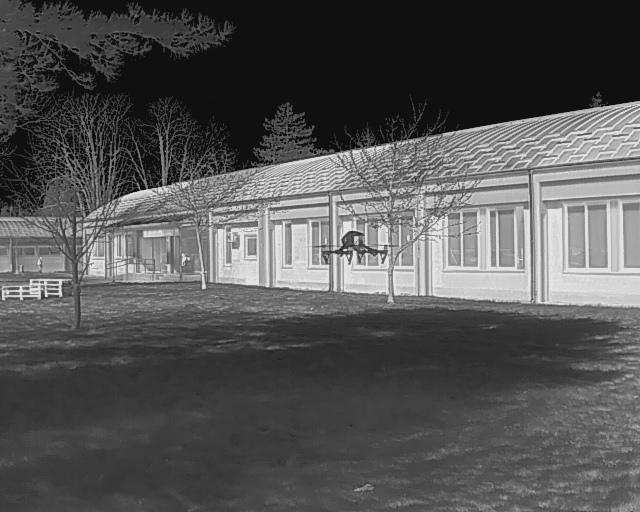drone: (315, 228, 391, 272)
